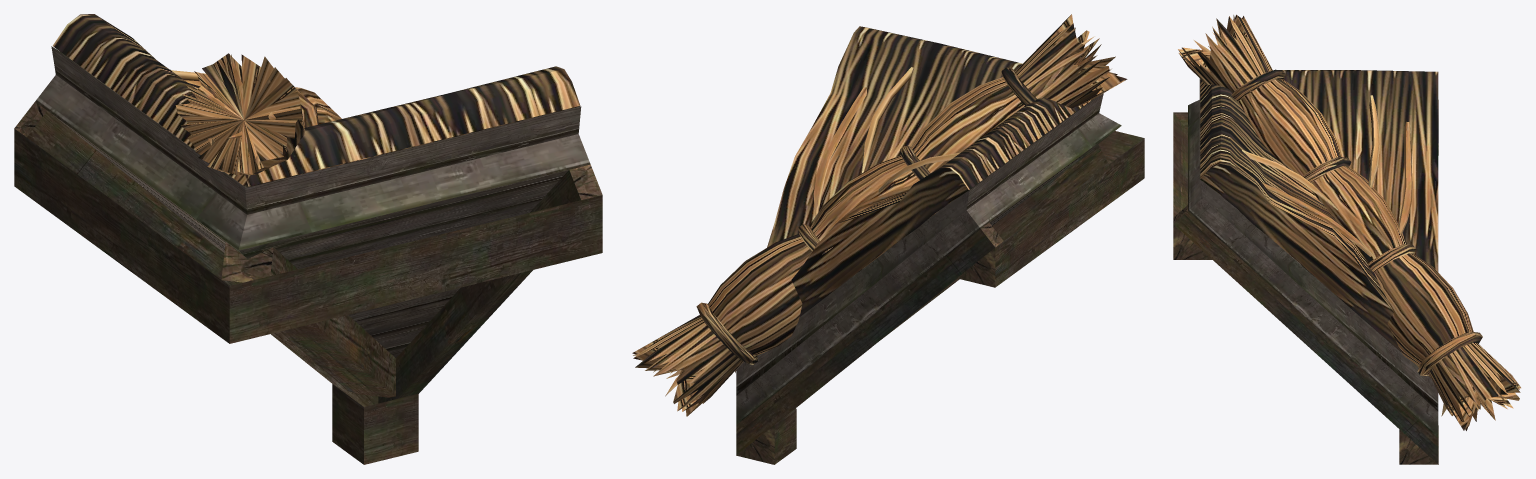
The picture shows the model from 3 angles, left to right: view 1: azimuth 30°, elevation 25°; view 2: azimuth 150°, elevation 25°; view 3: azimuth 270°, elevation 25°; orthographic projection. The views are drawn at different scales.
Parts seen in each view (by area): view 1: SM_BB_T1_Extended_Roof_Med_Valley_LOD0; view 2: SM_BB_T1_Extended_Roof_Med_Valley_LOD0; view 3: SM_BB_T1_Extended_Roof_Med_Valley_LOD0.
Part boxes in pixels (x1=…): SM_BB_T1_Extended_Roof_Med_Valley_LOD0: x1=14, y1=14, x2=602, y2=464; SM_BB_T1_Extended_Roof_Med_Valley_LOD0: x1=632, y1=14, x2=1144, y2=464; SM_BB_T1_Extended_Roof_Med_Valley_LOD0: x1=1173, y1=14, x2=1520, y2=464.
Size of the model in its own units: 2.19 by 2.49 by 2.21.
Materials: 3 (3 with a texture image).
